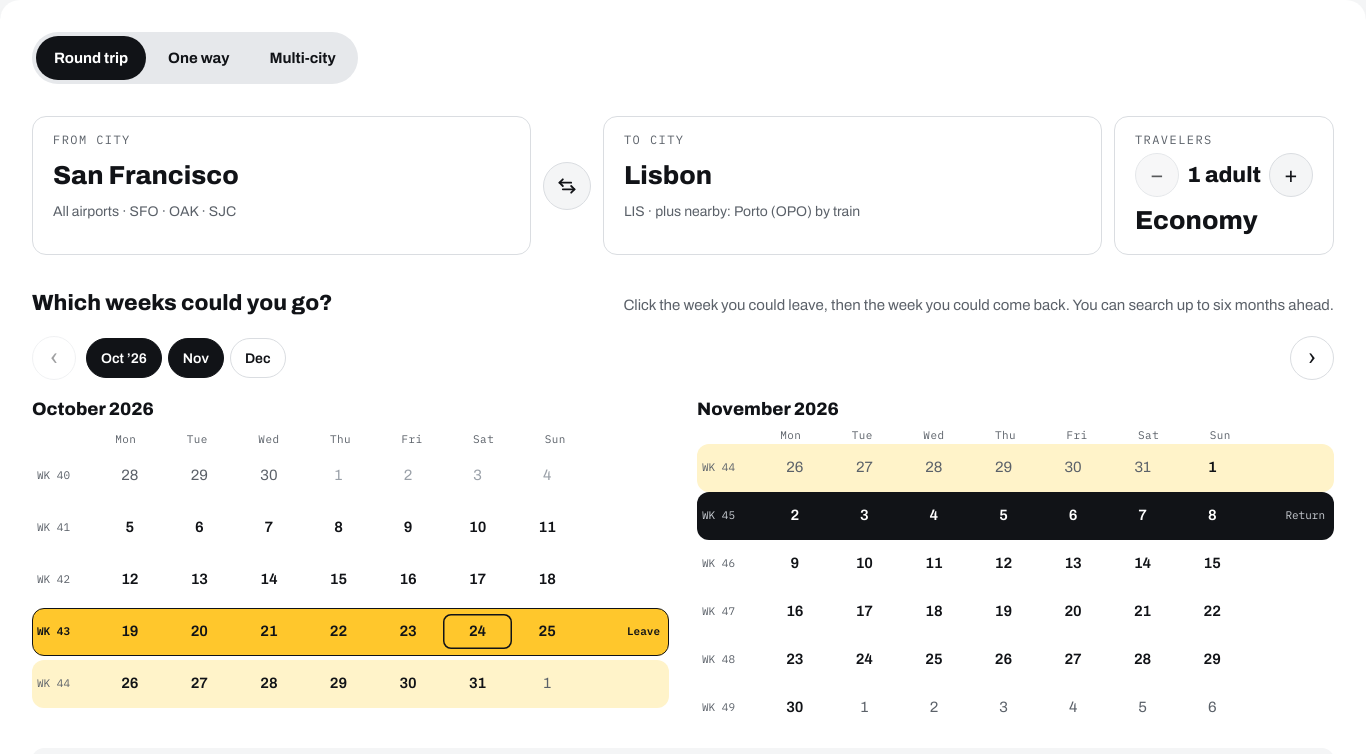
Scenario: trip type tabs › multi-city shows two flights, each with cities and a week, and no stay length
Click the button "Multi-city".
click(303, 58)  # box [252,36,354,80]
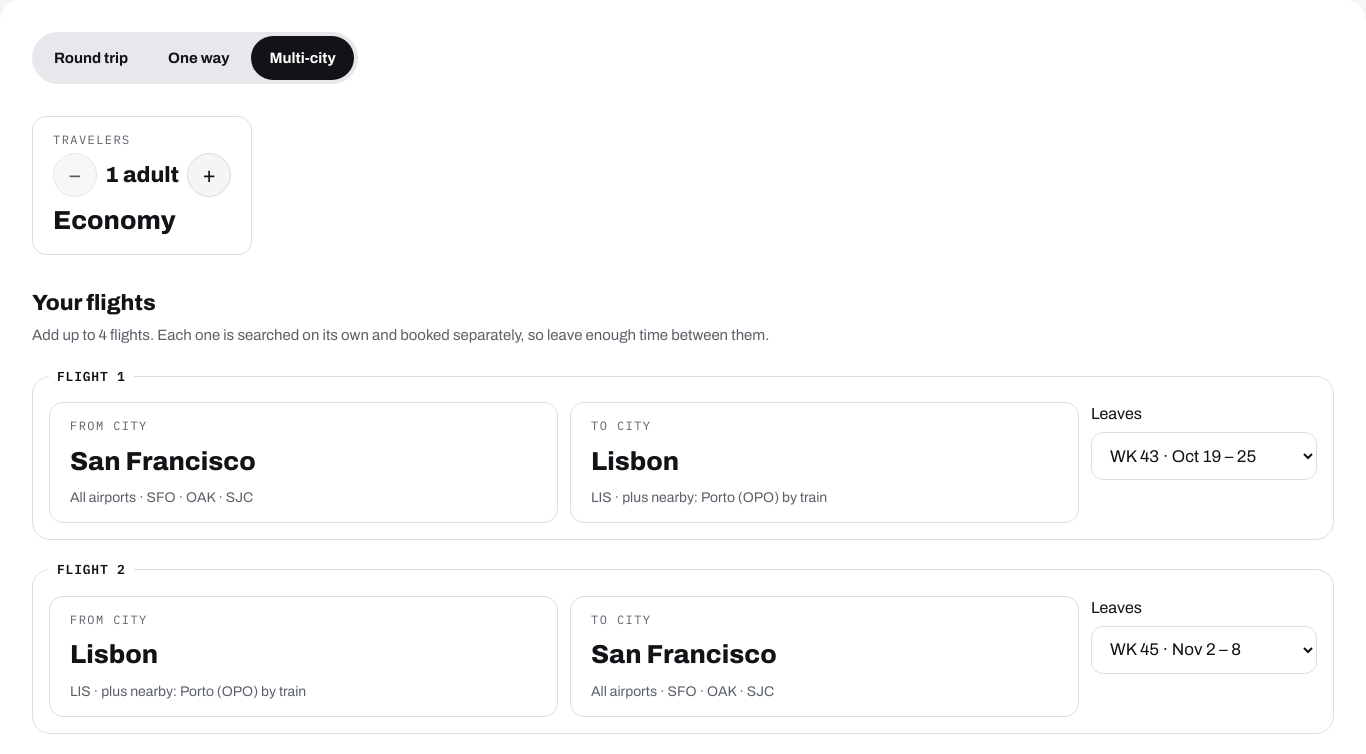
Expected: the heading "Your flights" is shown, [32,291,156,315]
Expected: the text "Flight 1" is shown, [57,368,126,384]
Expected: the text "Flight 2" is shown, [57,561,126,578]
